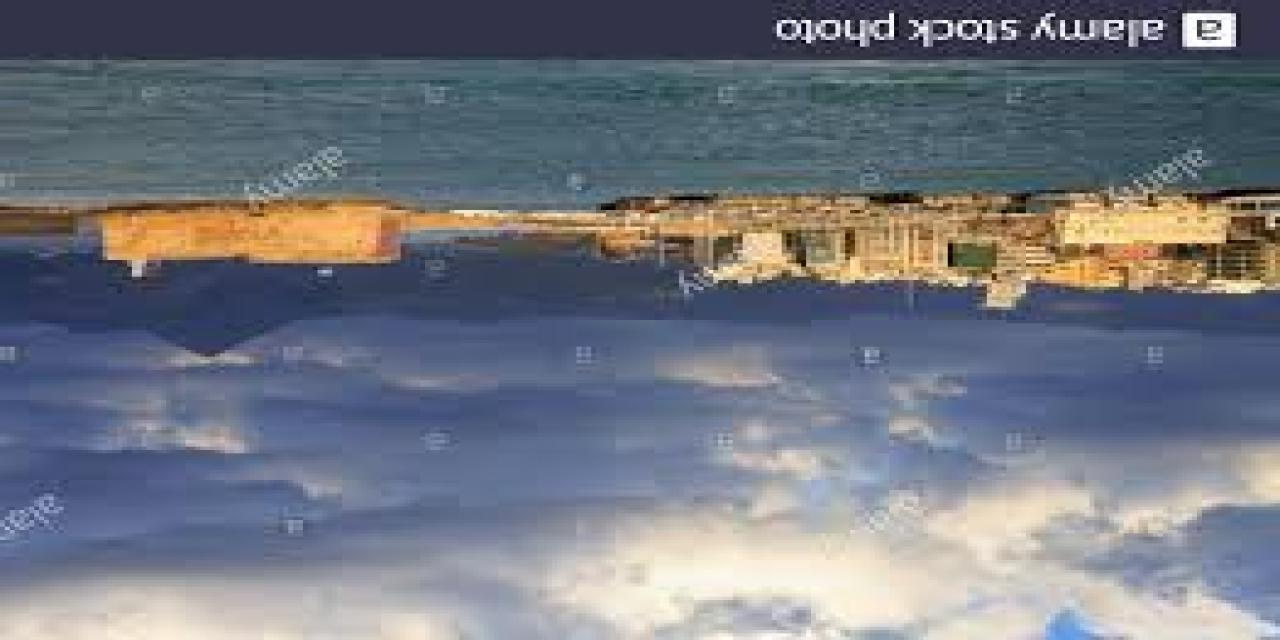Kules: (98, 203, 397, 267)
